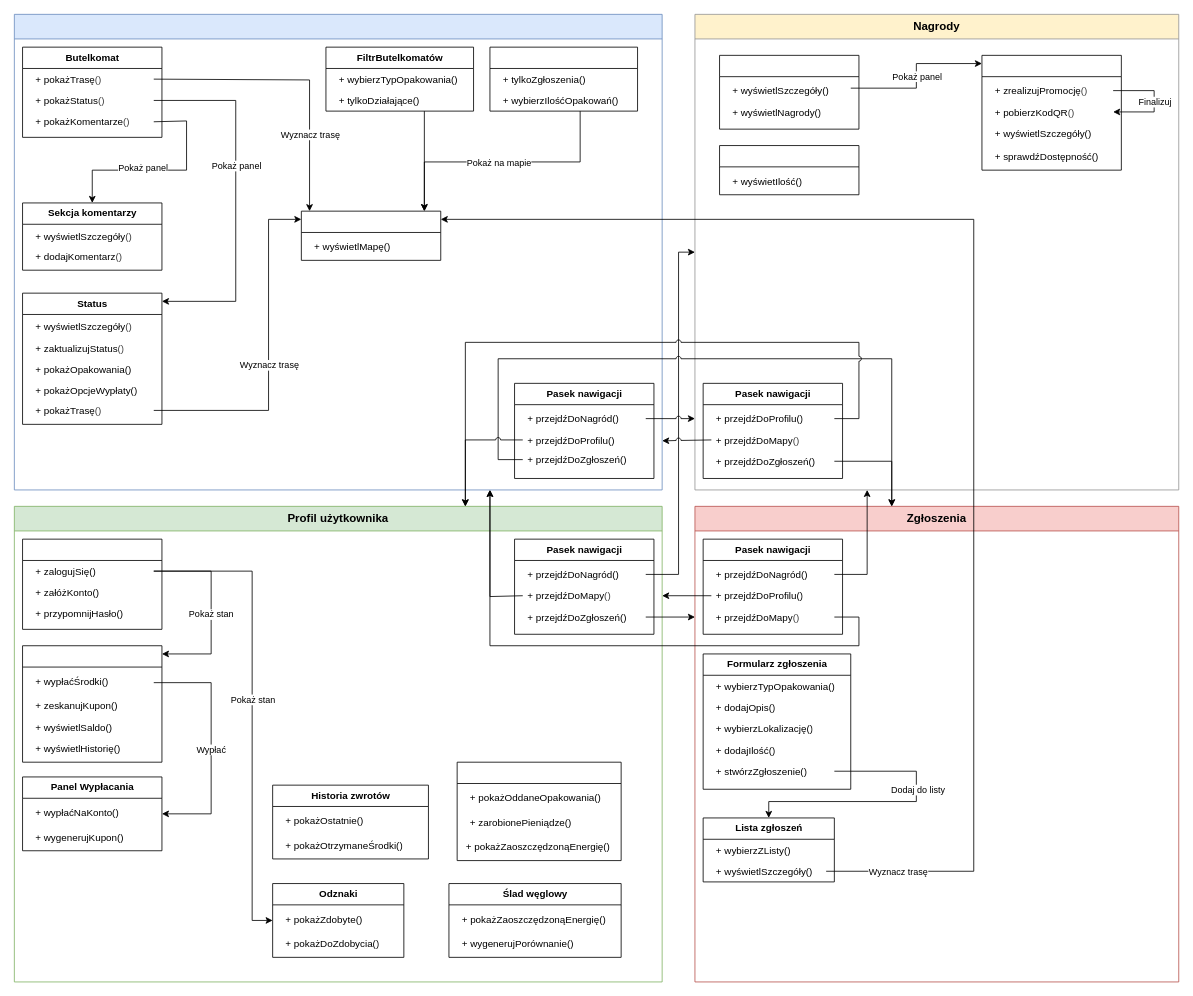
This 1193x996 diagram has some shape labels left out. Here are the shapes that lost their labels. From the top down, the box of each, then its label:
(489, 46, 638, 111): FiltrZgłoszeń
(719, 55, 859, 129): Lista promocji
(981, 55, 1121, 170): Promocja
(719, 145, 859, 195): Saldo punktów
(14, 14, 662, 490): Mapa
(301, 210, 441, 260): Podgląd Mapy
(22, 538, 162, 629): Panel logowania
(22, 645, 162, 762): Portfel
(456, 761, 621, 861): Statystyki
